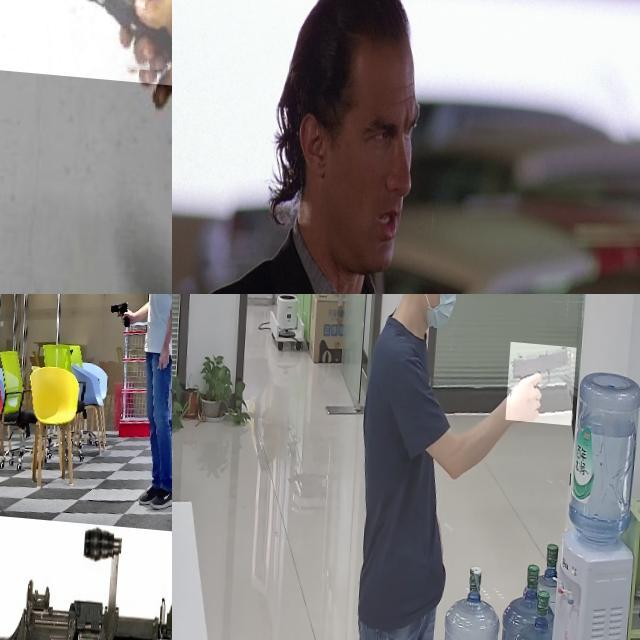-: (0, 0, 172, 113)
gun-knife-thesis - v11 Yolov5 augmented: (0, 505, 172, 640), (0, 489, 147, 640), (508, 334, 578, 416), (0, 299, 13, 354), (110, 294, 133, 315)
